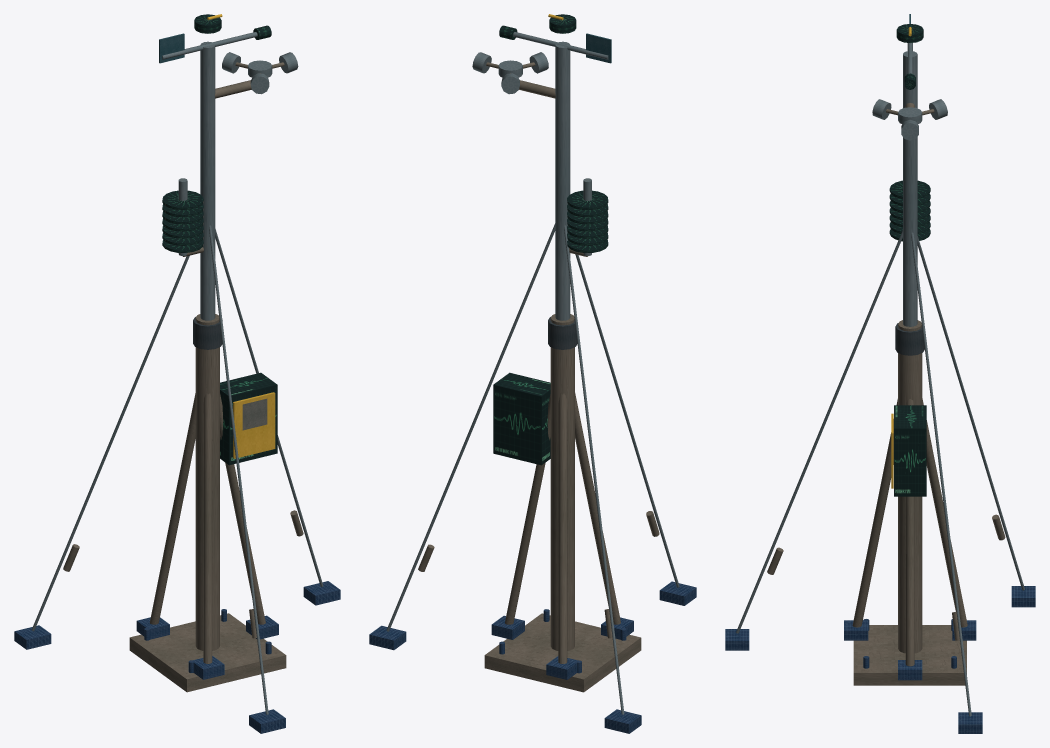
Rendered from PZ_Seismic_Weather_Sensor_Mast.glb.
3 renders of one model, left to right at view 1: azimuth 30°, elevation 25°; view 2: azimuth 150°, elevation 25°; view 3: azimuth 270°, elevation 25°, orthographic.
Visible parts, largest first — view 1: R_Mast_Ground_Anchor_Plate, R_Mast_Lower_Post, R_Mast_Upper_Post, R_Mast_Brace_2, R_Telemetry_Weatherproof_Box, R_Mast_Brace_1, R_Telemetry_Gasket, R_Guy_Wire_2, R_Guy_Wire_1, R_Mast_Brace_0, R_Guy_Wire_0, R_Mast_Collar (+7 smaller); view 2: R_Mast_Ground_Anchor_Plate, R_Mast_Lower_Post, R_Telemetry_Weatherproof_Box, R_Mast_Upper_Post, R_Mast_Brace_1, R_Mast_Brace_2, R_Guy_Wire_1, R_Mast_Brace_0, R_Guy_Wire_0, R_Guy_Wire_2, R_Mast_Collar, R_Guy_Anchor_2 (+6 smaller); view 3: R_Mast_Ground_Anchor_Plate, R_Mast_Lower_Post, R_Mast_Upper_Post, R_Telemetry_Weatherproof_Box, R_Mast_Brace_2, R_Mast_Brace_0, R_Guy_Wire_0, R_Mast_Brace_1, R_Guy_Wire_2, R_Guy_Wire_1, R_Mast_Collar, R_Guy_Anchor_0 (+2 smaller).
Part boxes in pixels (x1,y1,x2,y2): R_Mast_Ground_Anchor_Plate: (129, 613, 286, 692); R_Mast_Lower_Post: (195, 314, 219, 650); R_Mast_Upper_Post: (200, 41, 215, 320); R_Mast_Brace_2: (203, 393, 212, 663); R_Telemetry_Weatherproof_Box: (220, 372, 277, 465); R_Mast_Brace_1: (149, 393, 195, 624); R_Telemetry_Gasket: (233, 392, 275, 458); R_Guy_Wire_2: (209, 225, 268, 714); R_Guy_Wire_1: (31, 255, 189, 631); R_Mast_Brace_0: (220, 394, 265, 624); R_Guy_Wire_0: (215, 229, 323, 586); R_Mast_Collar: (193, 317, 222, 349); R_Mast_Ground_Anchor_Plate: (484, 613, 641, 692); R_Mast_Lower_Post: (550, 314, 574, 650); R_Telemetry_Weatherproof_Box: (493, 372, 550, 465); R_Mast_Upper_Post: (555, 41, 570, 320); R_Mast_Brace_1: (558, 393, 567, 663); R_Mast_Brace_2: (575, 393, 620, 624); R_Guy_Wire_1: (564, 225, 624, 714); R_Mast_Brace_0: (505, 394, 550, 624); R_Guy_Wire_0: (386, 223, 555, 631); R_Guy_Wire_2: (575, 254, 679, 587); R_Mast_Collar: (548, 317, 577, 349); R_Guy_Anchor_2: (659, 581, 696, 605); R_Mast_Ground_Anchor_Plate: (853, 625, 966, 685); R_Mast_Lower_Post: (898, 320, 922, 653); R_Mast_Upper_Post: (903, 51, 917, 326); R_Telemetry_Weatherproof_Box: (894, 405, 926, 496); R_Mast_Brace_2: (852, 399, 897, 627); R_Mast_Brace_0: (905, 399, 914, 666); R_Guy_Wire_0: (911, 232, 971, 716); R_Mast_Brace_1: (922, 398, 967, 627); R_Guy_Wire_2: (736, 230, 902, 633); R_Guy_Wire_1: (917, 236, 1024, 590); R_Mast_Collar: (895, 323, 924, 355); R_Guy_Anchor_0: (958, 712, 982, 733).
Bounding box in the file's own units: 2.31 × 4.94 × 2.19.
1 material, 1 textured.
